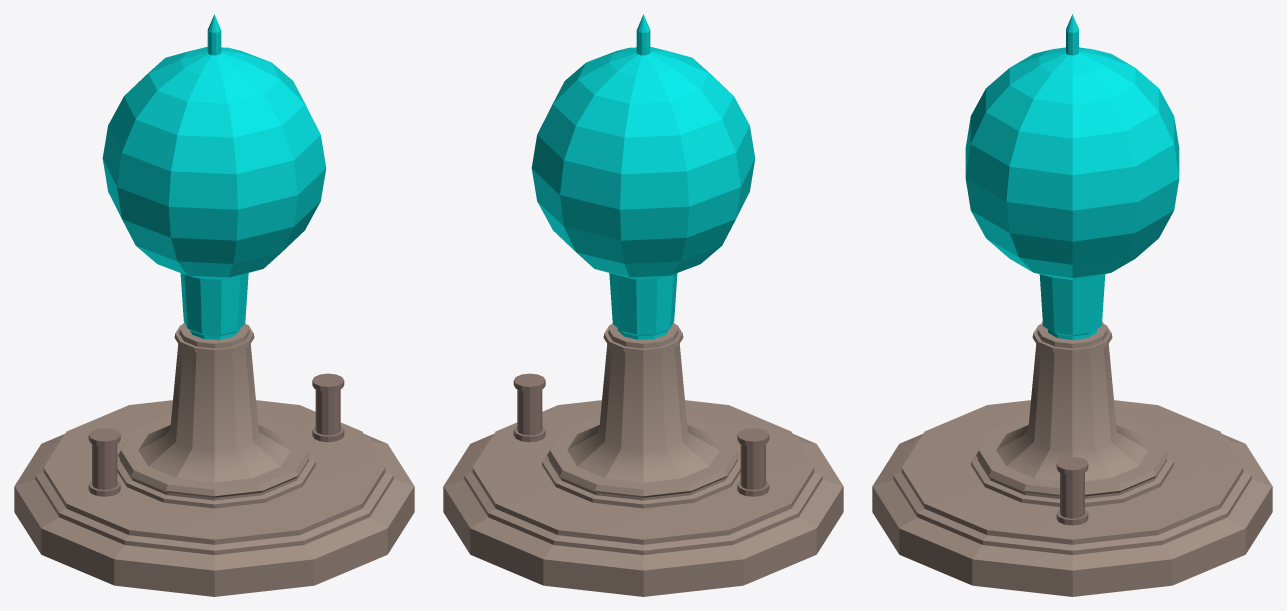
File: Foco.fbx
The picture shows the model from 3 angles, left to right: view 1: azimuth 30°, elevation 25°; view 2: azimuth 150°, elevation 25°; view 3: azimuth 270°, elevation 25°; orthographic projection.
Parts seen in each view (by area): view 1: pCylinder1, Foco, pCylinder2, pCylinder3, pCylinder4; view 2: pCylinder1, Foco, pCylinder2, pCylinder3, pCylinder4; view 3: pCylinder1, Foco, pCylinder2, pCylinder4.
Boxes of the visible parts, x1,y1,x2,y2 form: pCylinder1: (14, 400, 414, 596); Foco: (102, 14, 326, 339); pCylinder2: (117, 322, 315, 508); pCylinder3: (88, 428, 120, 496); pCylinder4: (312, 373, 344, 442); pCylinder1: (443, 400, 843, 596); Foco: (531, 14, 755, 339); pCylinder2: (542, 322, 740, 508); pCylinder3: (737, 428, 769, 496); pCylinder4: (513, 373, 545, 442); pCylinder1: (872, 400, 1272, 596); Foco: (965, 14, 1179, 339); pCylinder2: (971, 322, 1173, 506); pCylinder4: (1056, 457, 1088, 525).
Bounding box in the file's own units: 2 × 2.75 × 2.
